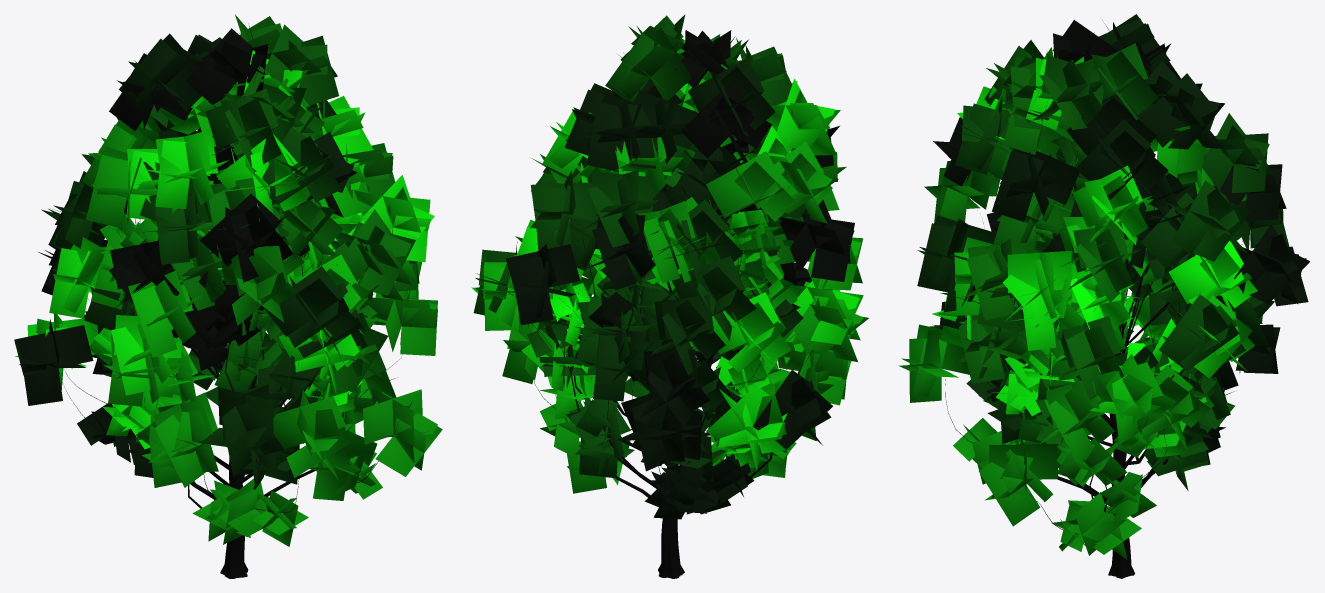
The model's file is Type_1_9.fbx.
The picture shows the model from 3 angles, left to right: view 1: azimuth 30°, elevation 25°; view 2: azimuth 150°, elevation 25°; view 3: azimuth 270°, elevation 25°; orthographic projection. The views are drawn at different scales.
Parts seen in each view (by area): view 1: Type_1_9; view 2: Type_1_9; view 3: Type_1_9.
Boxes of the visible parts, box(x1,y1,x2,y2) form: Type_1_9: box(14, 14, 442, 578); Type_1_9: box(471, 14, 868, 578); Type_1_9: box(898, 14, 1309, 578).
Size of the model in its own units: 559 by 763 by 534.
